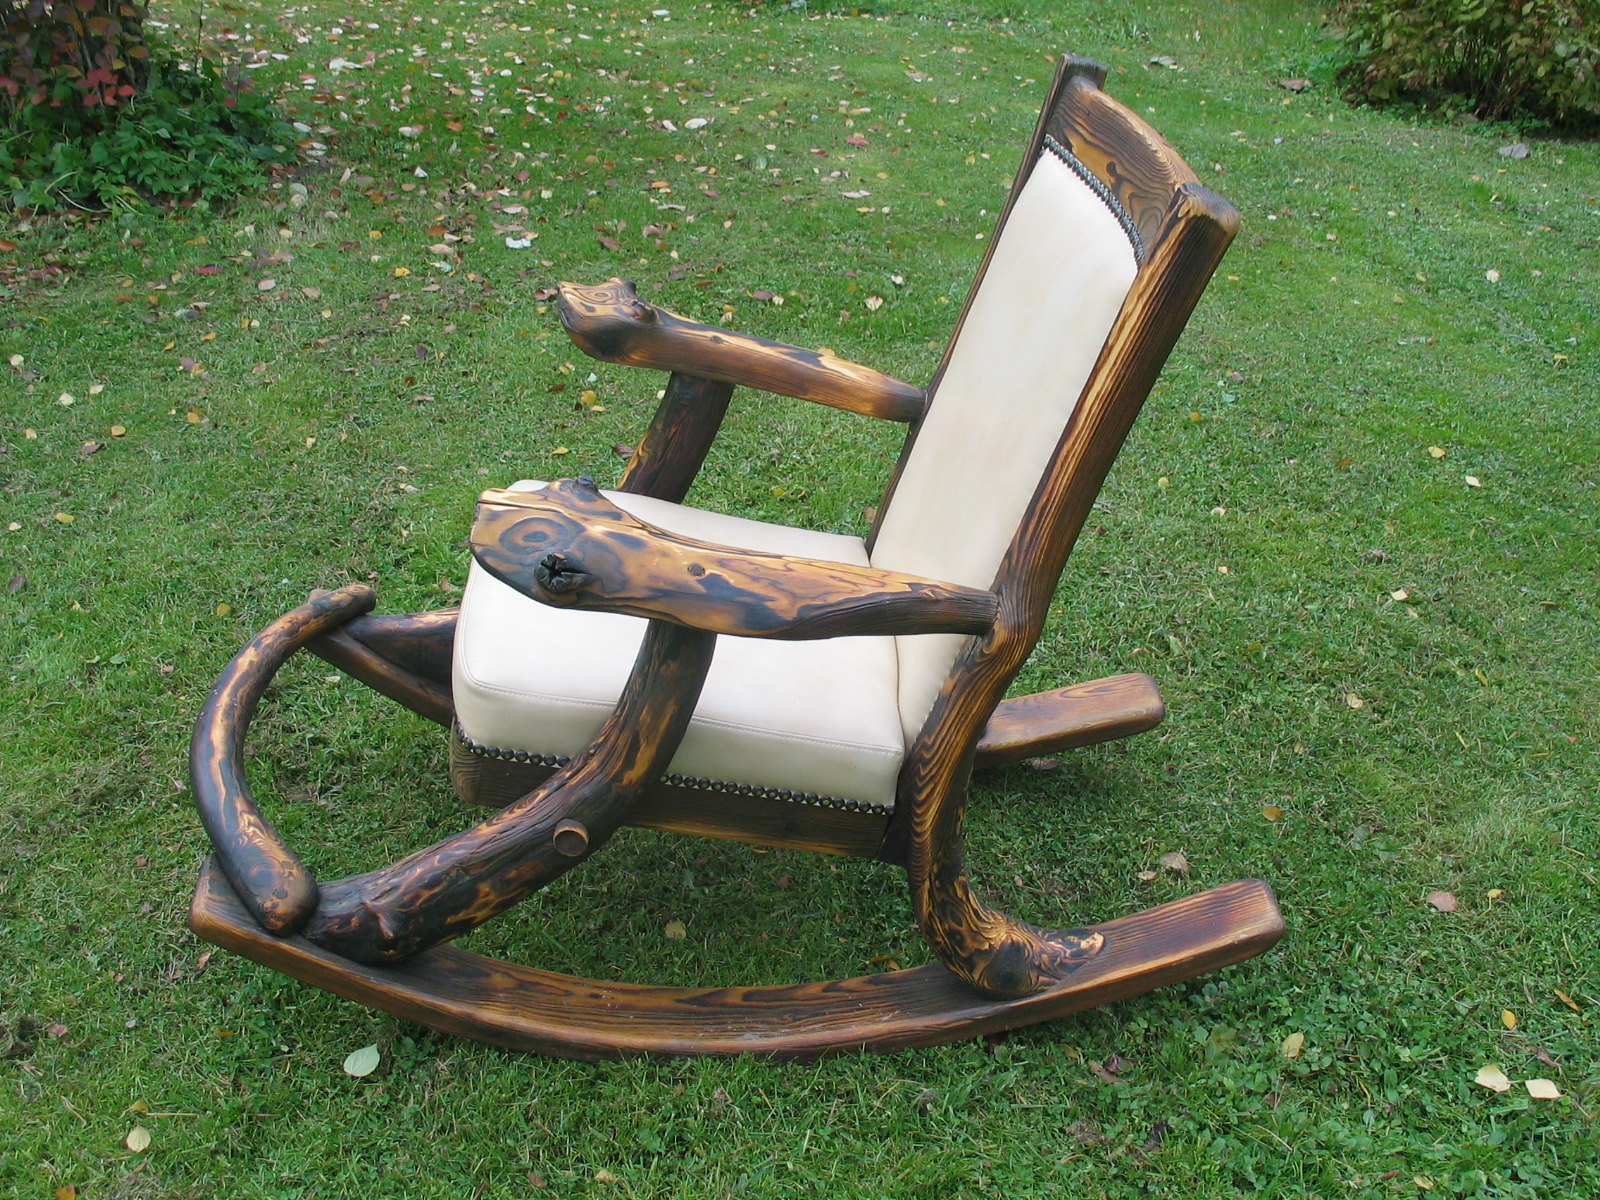chair: (163, 37, 1246, 1066)
